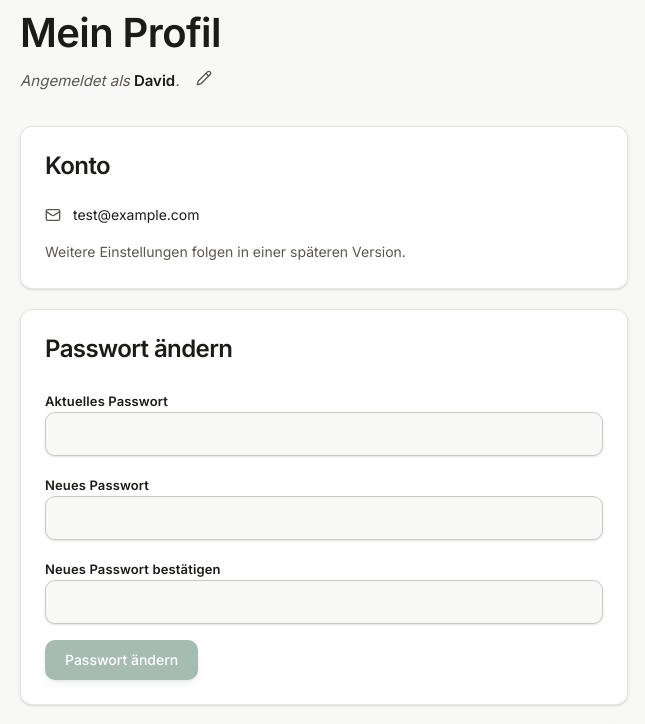
Scenario: <ProfilePage /> › displayname inline-edit › cancel exits edit mode without PATCHing
Click the button named "anzeigenamen bearbeiten" at [204, 78], box [188,62,220,94]
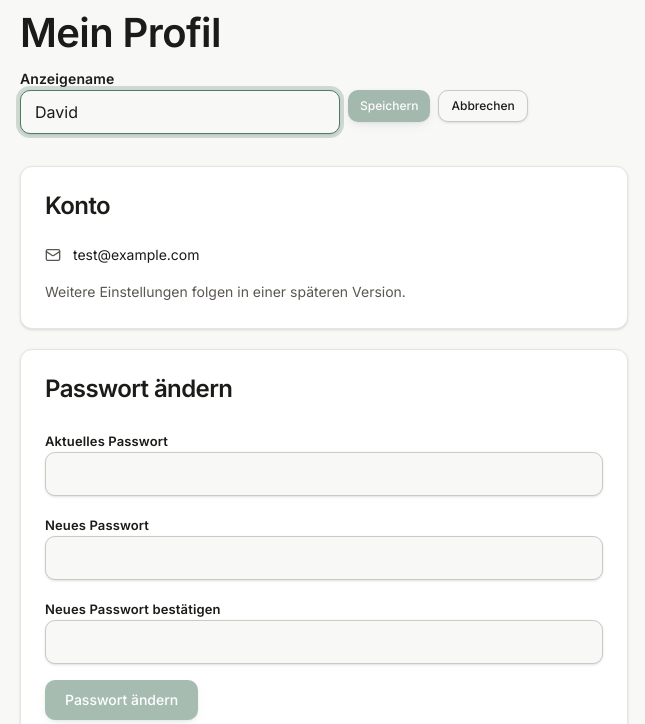
Click the button "Abbrechen" at [483, 106], box [438,90,528,122]
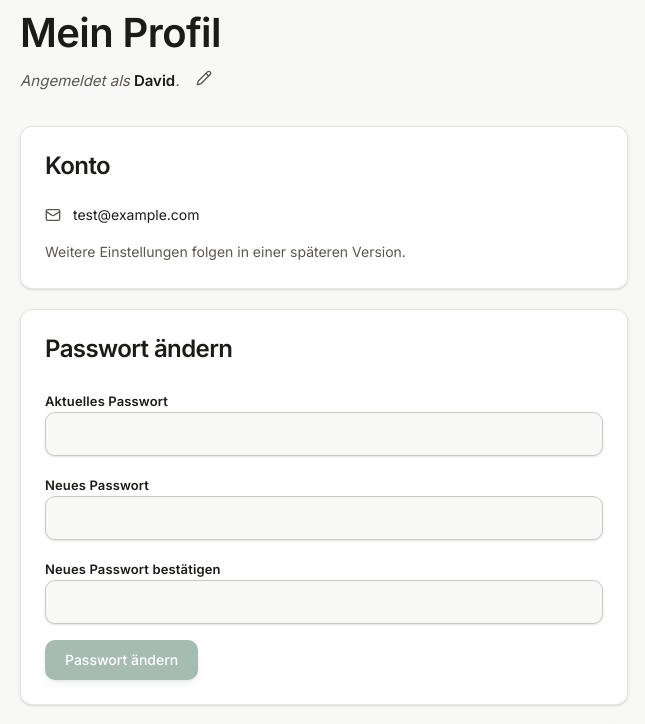
Now the label "Anzeigename" is gone
Now the text "David" is shown, box [134,71,175,90]
